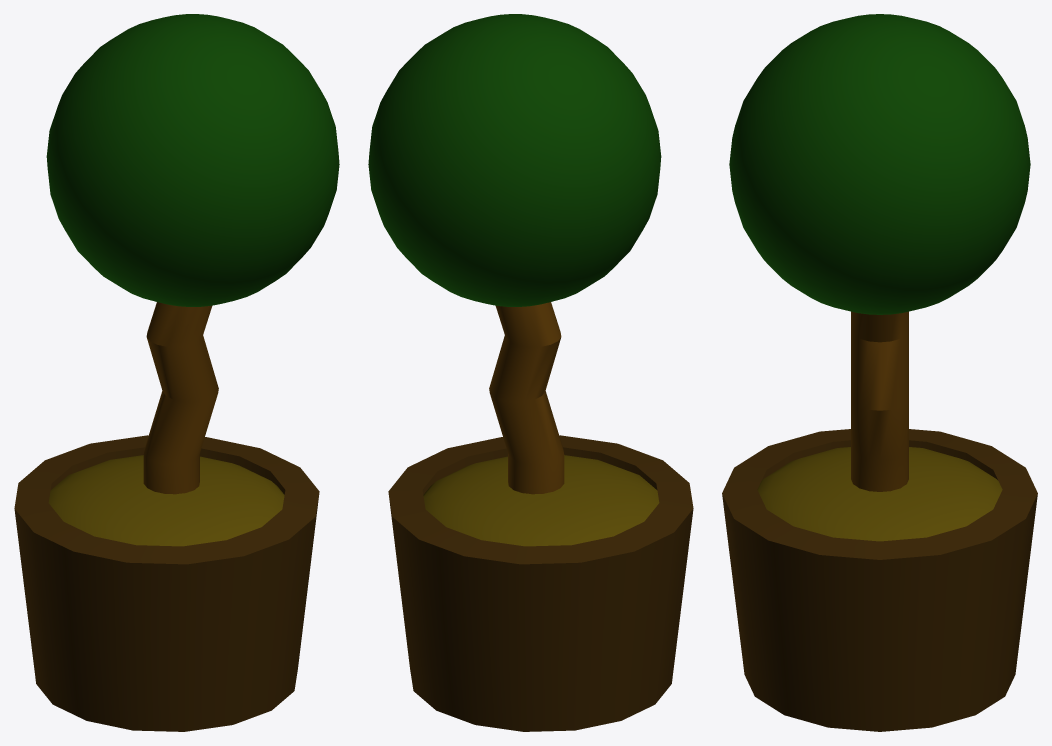
The model's file is tree.glb.
The picture shows the model from 3 angles, left to right: view 1: azimuth 30°, elevation 25°; view 2: azimuth 150°, elevation 25°; view 3: azimuth 270°, elevation 25°; orthographic projection. The views are drawn at different scales.
Visible parts, largest first — view 1: Sphere; view 2: Sphere; view 3: Sphere.
Boxes of the visible parts, x1,y1,x2,y2 form: Sphere: [14, 14, 339, 731]; Sphere: [368, 14, 693, 731]; Sphere: [722, 14, 1037, 731].
Bounding box in the file's own units: 3.39 × 7.27 × 3.16.
